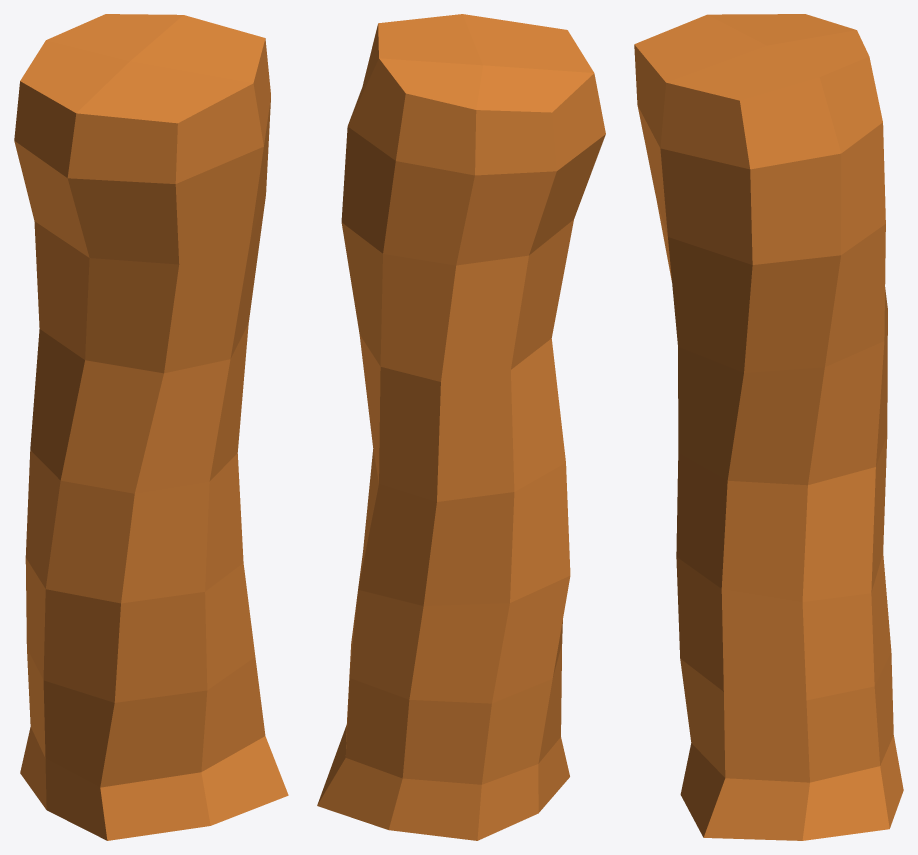
File: rock_pillar.glb
The picture shows the model from 3 angles, left to right: view 1: azimuth 30°, elevation 25°; view 2: azimuth 150°, elevation 25°; view 3: azimuth 270°, elevation 25°; orthographic projection. The views are drawn at different scales.
Parts seen in each view (by area): view 1: rockpillar; view 2: rockpillar; view 3: rockpillar.
Boxes of the visible parts, <box> form: rockpillar: <box>14,14,288,840</box>; rockpillar: <box>317,14,605,840</box>; rockpillar: <box>634,14,903,840</box>.
Size of the model in its own units: 5.62 by 17.59 by 5.82.
